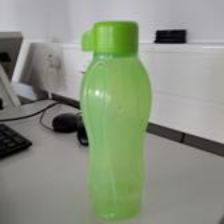bottle: (72, 19, 156, 220)
